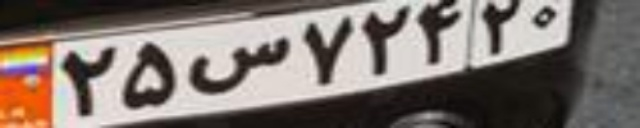0: (531, 4, 559, 29)
2: (62, 45, 110, 116), (360, 5, 405, 75), (480, 0, 525, 54)
4: (419, 0, 461, 65)
5: (118, 41, 175, 109)
7: (301, 16, 353, 86)
sin: (187, 36, 290, 95)
